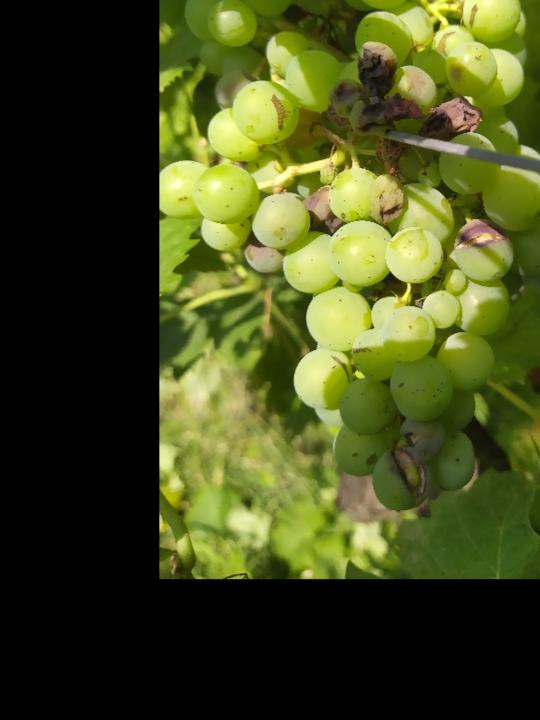grape: (165, 0, 540, 518)
